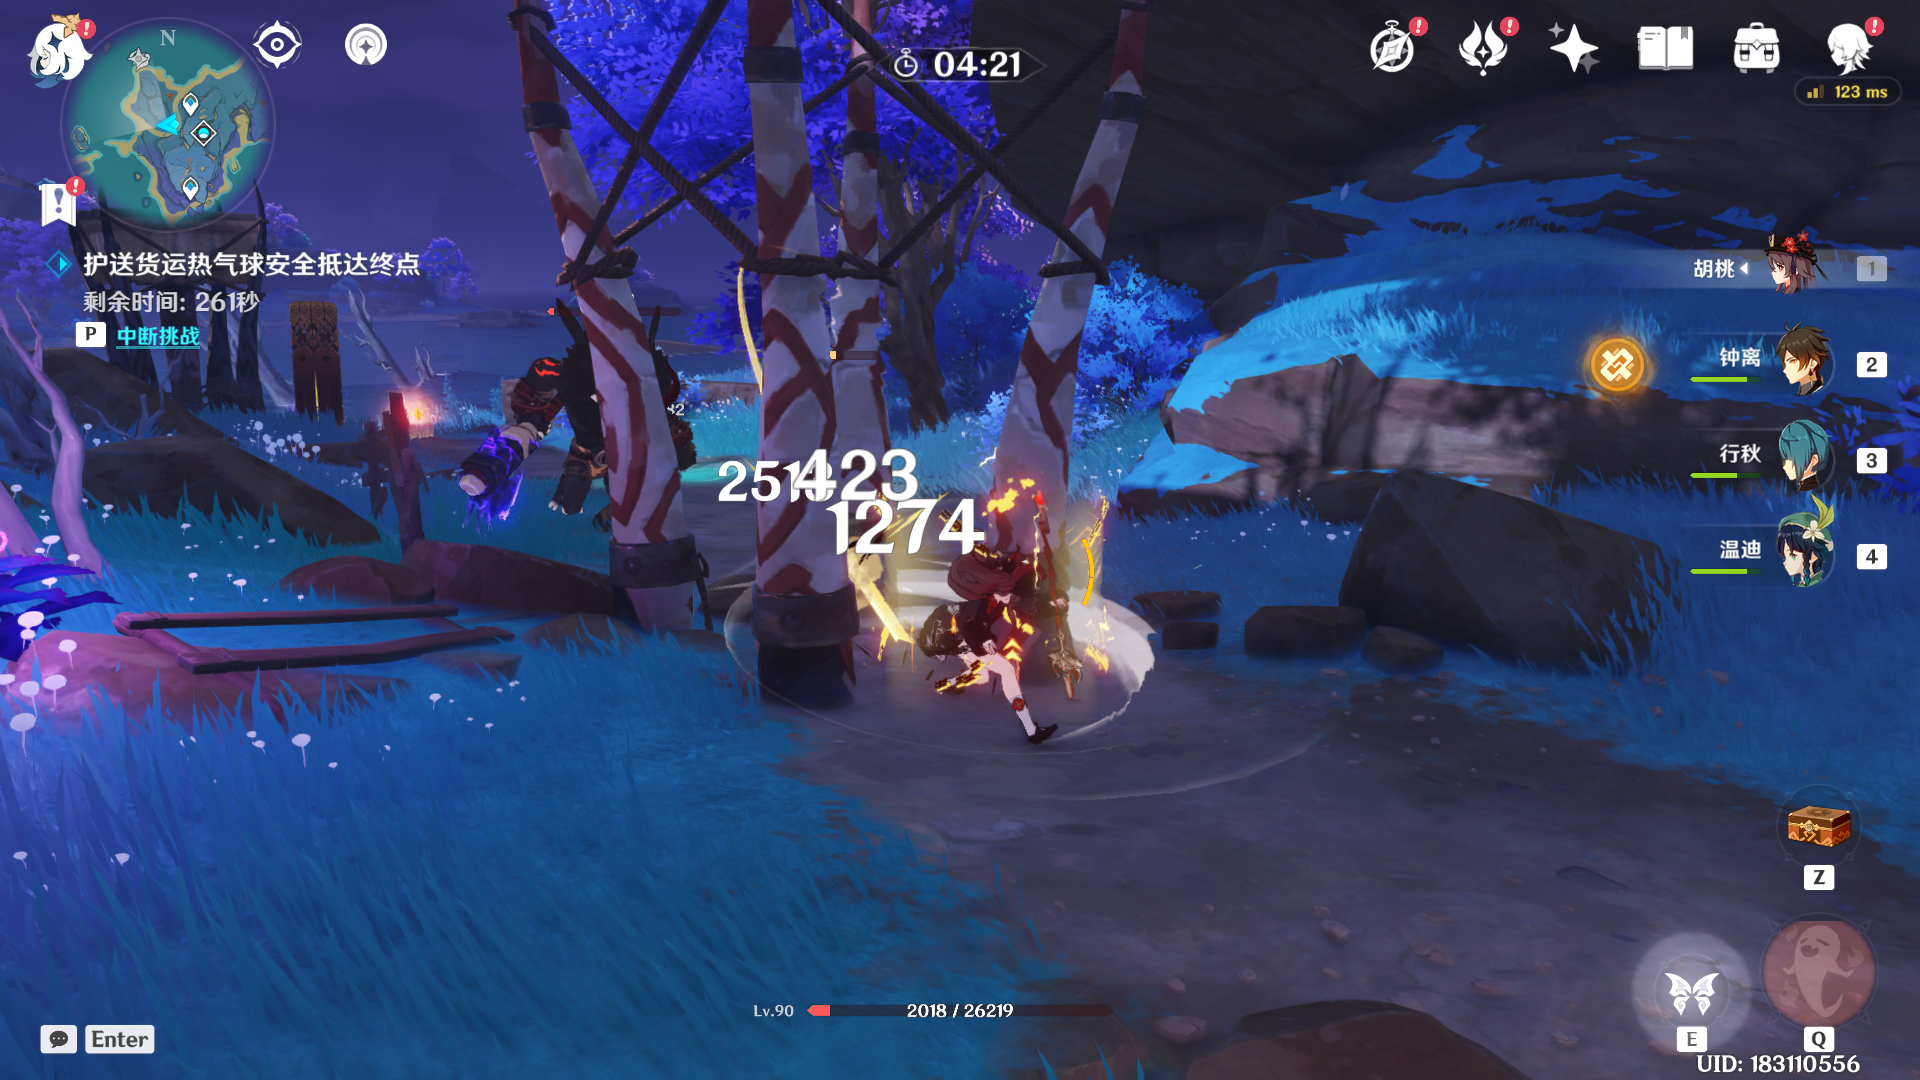bighili: (444, 299, 691, 545)
character: (872, 469, 1127, 803)
